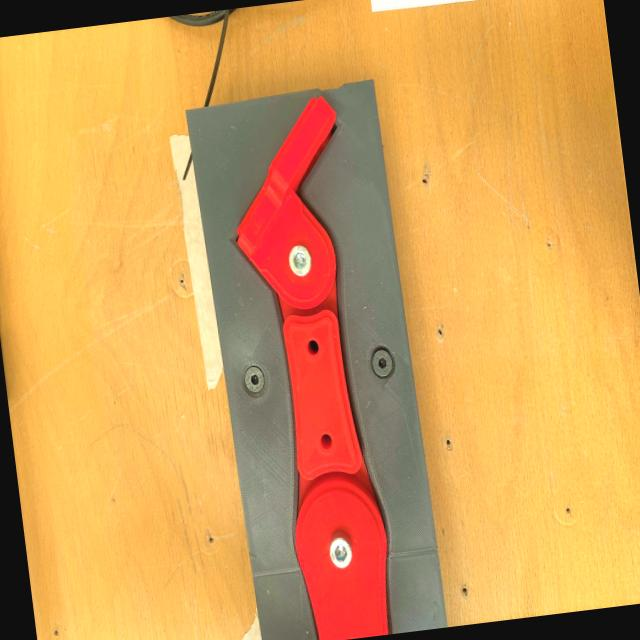Hex Socket Allen: (287, 243, 313, 278), (328, 535, 353, 569), (369, 347, 394, 378), (242, 364, 266, 394)
